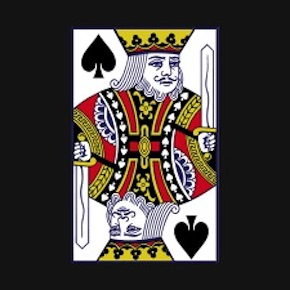KingOfSpades: (65, 25, 224, 267)
